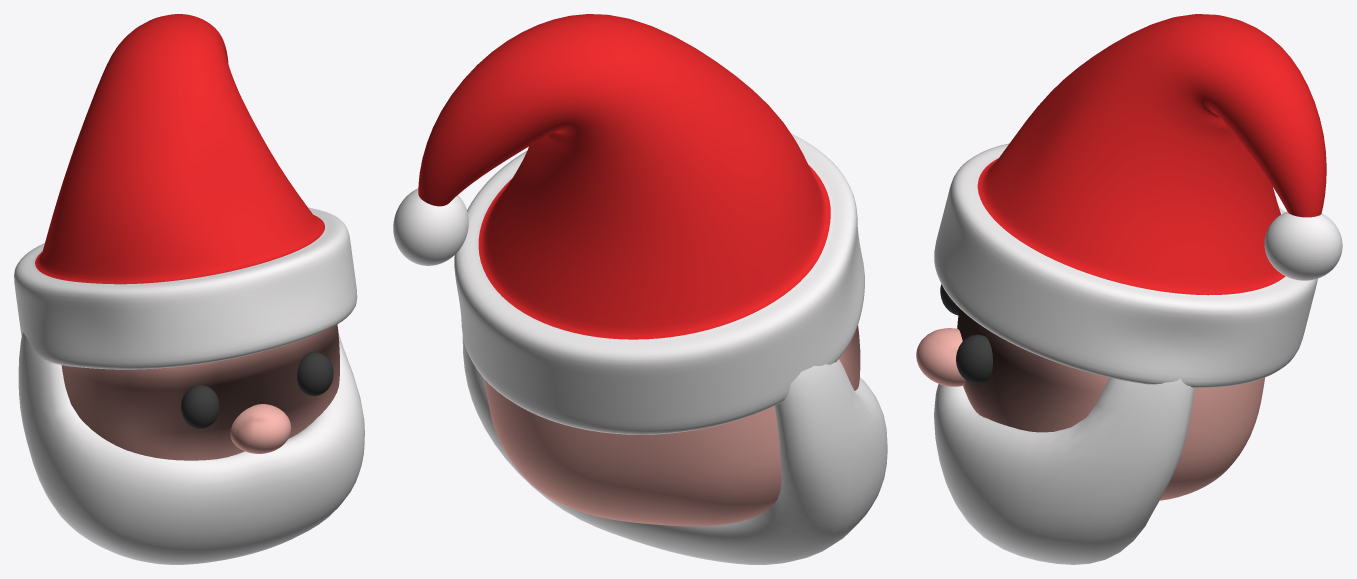
File: santahead.fbx
The picture shows the model from 3 angles, left to right: view 1: azimuth 30°, elevation 25°; view 2: azimuth 150°, elevation 25°; view 3: azimuth 270°, elevation 25°; orthographic projection. The views are drawn at different scales.
Visible parts, largest first — view 1: Circle.002, Roundcube.001, Roundcube, Sphere.035, Sphere.036; view 2: Circle.002, Roundcube, Roundcube.001; view 3: Circle.002, Roundcube.001, Roundcube, Sphere.036, Sphere.035.
Boxes of the visible parts, x1,y1,x2,y2 form: Circle.002: [14, 14, 357, 369]; Roundcube.001: [18, 332, 364, 564]; Roundcube: [61, 324, 339, 460]; Sphere.035: [181, 352, 333, 428]; Sphere.036: [230, 404, 291, 453]; Circle.002: [393, 14, 864, 434]; Roundcube: [485, 326, 860, 526]; Roundcube.001: [462, 336, 887, 564]; Circle.002: [934, 14, 1342, 387]; Roundcube.001: [934, 378, 1194, 564]; Roundcube: [957, 308, 1264, 500]; Sphere.036: [916, 328, 965, 386]; Sphere.035: [940, 284, 992, 384].
Size of the model in its own units: 527 by 780 by 573.
